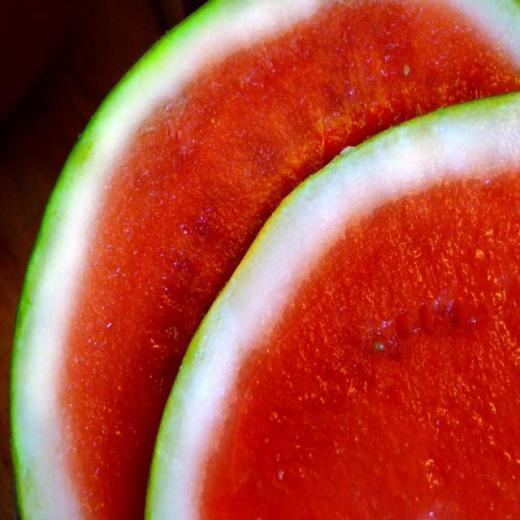Cherry: (7, 0, 519, 519), (145, 91, 520, 520)
